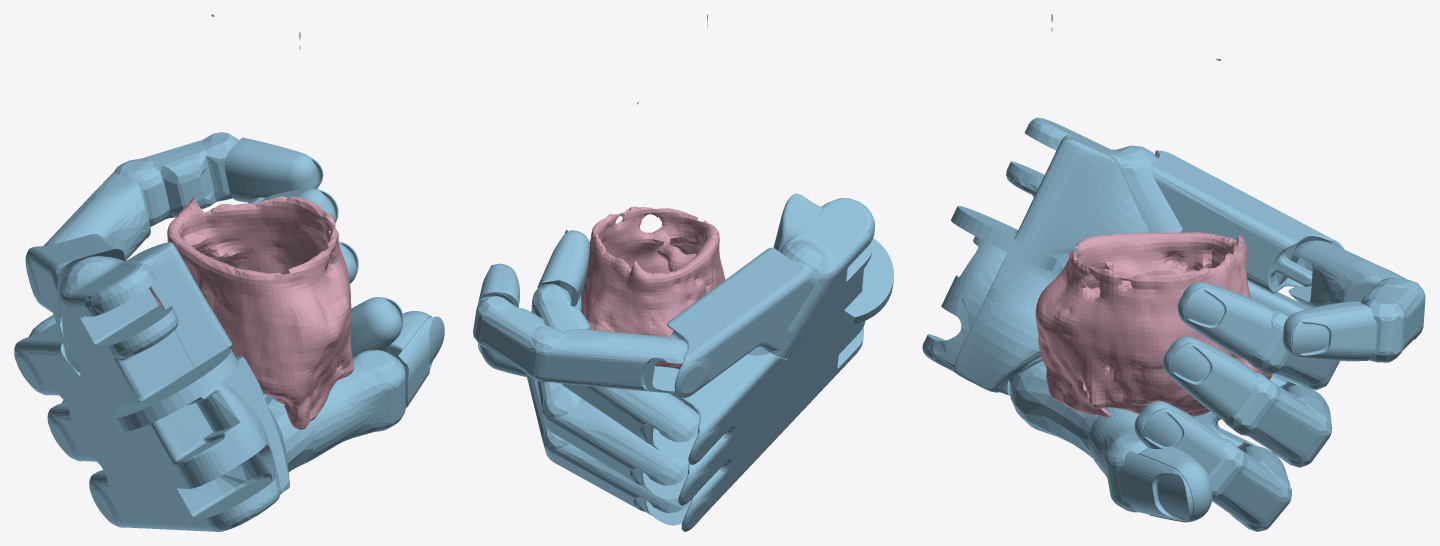
The picture shows the model from 3 angles, left to right: view 1: azimuth 30°, elevation 25°; view 2: azimuth 150°, elevation 25°; view 3: azimuth 270°, elevation 25°; orthographic projection. The views are drawn at different scales.
Visible parts, largest first — view 1: hand, world; view 2: hand, world; view 3: hand, world.
Boxes of the visible parts, bbox=[...] form: hand: bbox=[14, 132, 444, 531]; world: bbox=[149, 14, 354, 429]; hand: bbox=[473, 193, 893, 531]; world: bbox=[581, 14, 725, 369]; hand: bbox=[922, 117, 1425, 531]; world: bbox=[1035, 14, 1272, 417].
Size of the model in its own units: 0.1396 by 0.1732 by 0.1498.
